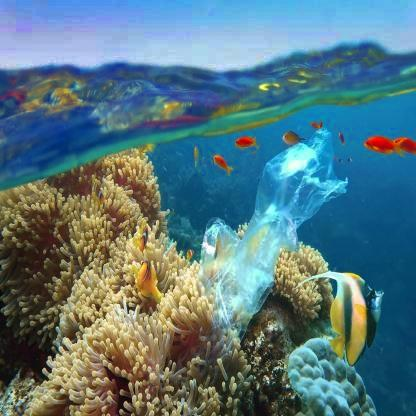pbag: (196, 117, 350, 346)
